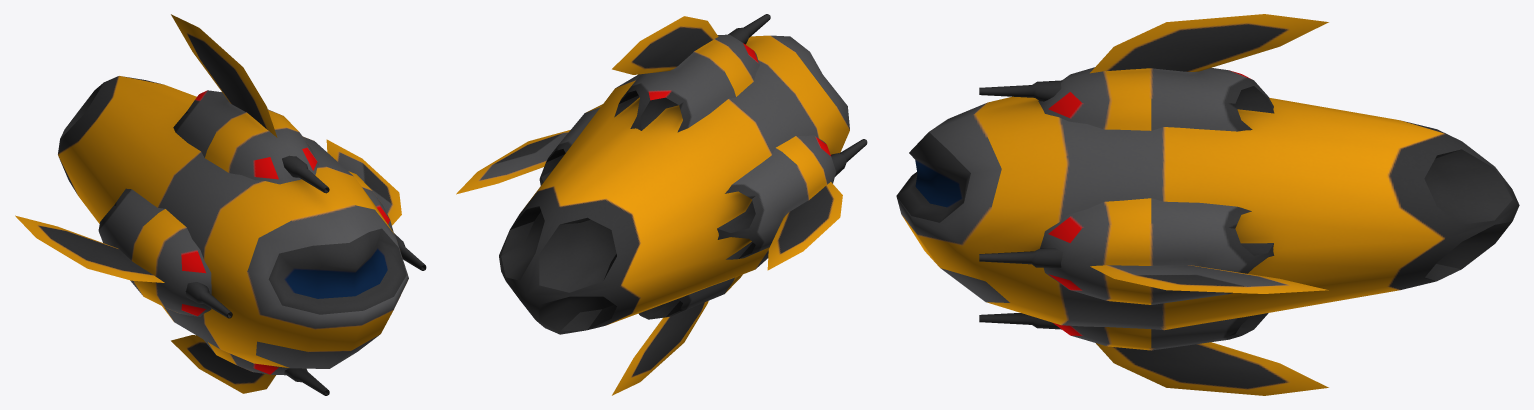
The model's file is Enemy_Spinner.FBX.
3 renders of one model, left to right at view 1: azimuth 30°, elevation 25°; view 2: azimuth 150°, elevation 25°; view 3: azimuth 270°, elevation 25°, orthographic. The views are drawn at different scales.
Visible parts, largest first — view 1: Enemy_Spinner; view 2: Enemy_Spinner; view 3: Enemy_Spinner.
Part boxes in pixels (x1,y1,x2,y2): Enemy_Spinner: (15, 14, 426, 395); Enemy_Spinner: (456, 14, 867, 395); Enemy_Spinner: (896, 14, 1519, 395).
Bounding box in the file's own units: 3.87 × 3.87 × 5.73.
